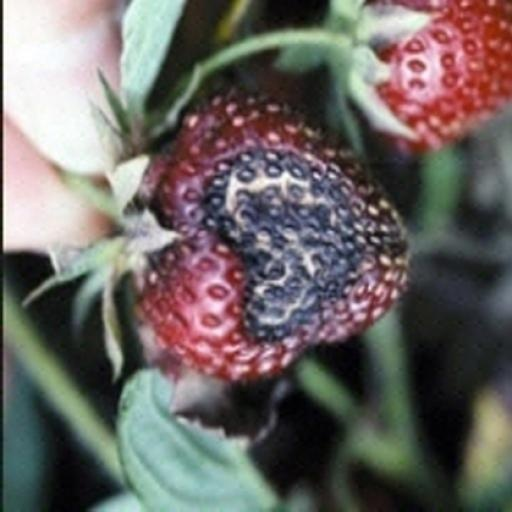Anthracnose Fruit Rot: (125, 154, 411, 426)
